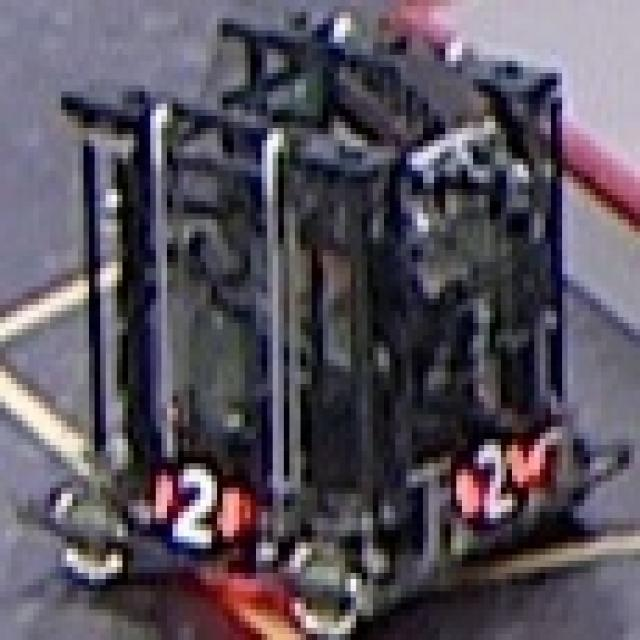R2: (133, 448, 245, 546), (442, 415, 542, 524)
